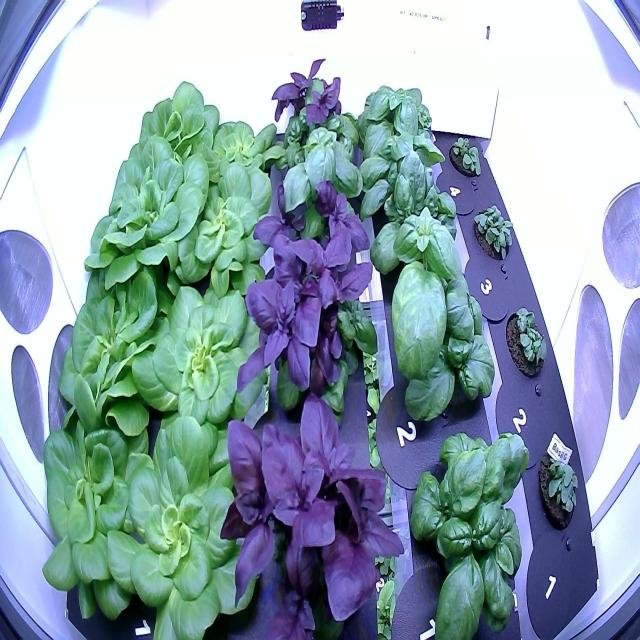germination: (533, 436, 583, 541), (502, 296, 552, 390), (443, 125, 486, 188)
young: (108, 407, 265, 640), (25, 387, 172, 633), (47, 233, 187, 454), (125, 261, 272, 470), (76, 121, 216, 304), (157, 152, 285, 311), (124, 72, 226, 208), (190, 96, 294, 204)
